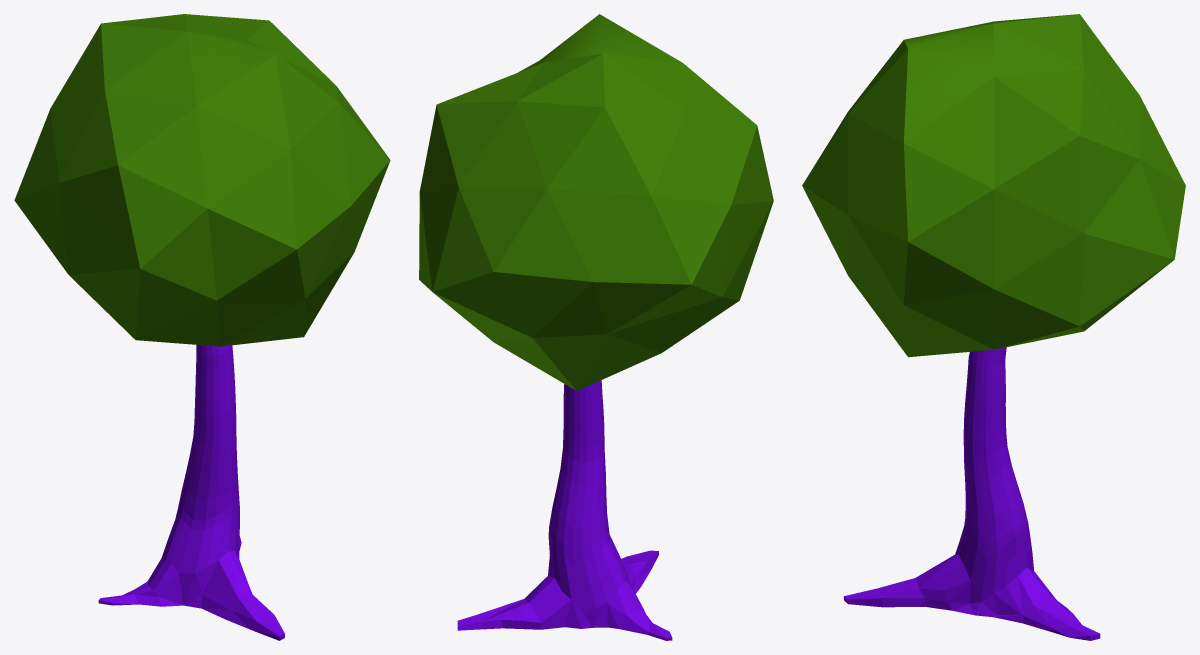
Rendered from TREE_MEDIUM.fbx.
3 renders of one model, left to right at view 1: azimuth 30°, elevation 25°; view 2: azimuth 150°, elevation 25°; view 3: azimuth 270°, elevation 25°, orthographic.
Visible parts, largest first — view 1: TREE_MEDIUM; view 2: TREE_MEDIUM; view 3: TREE_MEDIUM.
Boxes of the visible parts, x1,y1,x2,y2 form: TREE_MEDIUM: (14, 14, 390, 640); TREE_MEDIUM: (419, 14, 773, 640); TREE_MEDIUM: (802, 14, 1185, 640).
Bounding box in the file's own units: 453 × 832 × 509.
